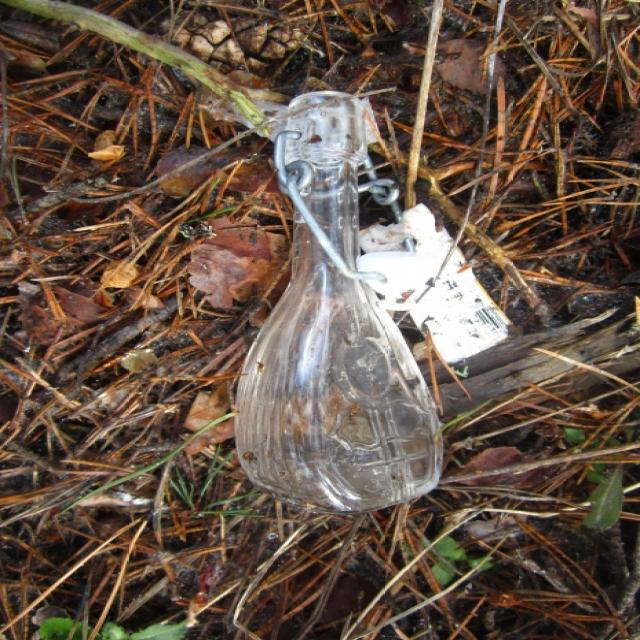glass: (270, 95, 479, 511)
